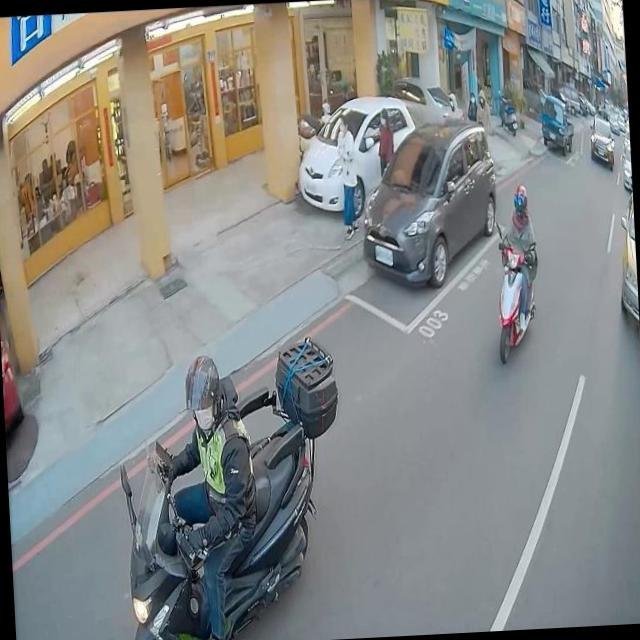person: (142, 344, 265, 640), (492, 184, 542, 336), (327, 105, 368, 236), (374, 108, 396, 176), (472, 86, 495, 146), (441, 89, 465, 122), (466, 89, 478, 126)
